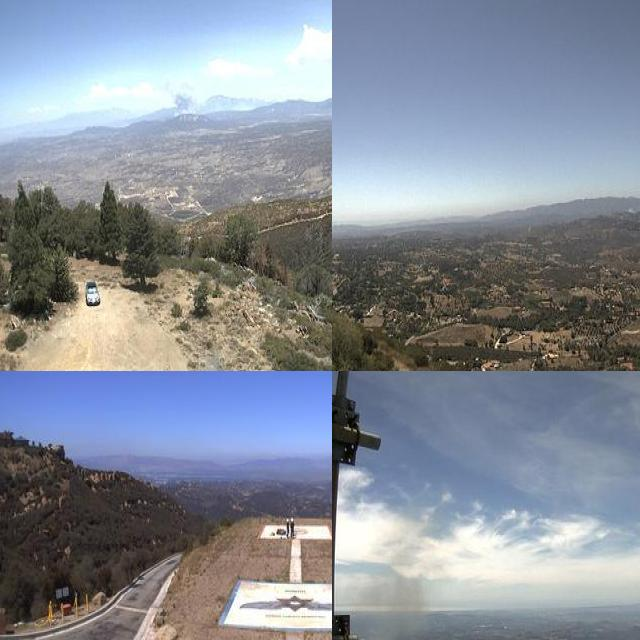smoke: (351, 507, 428, 640), (162, 82, 205, 117)
